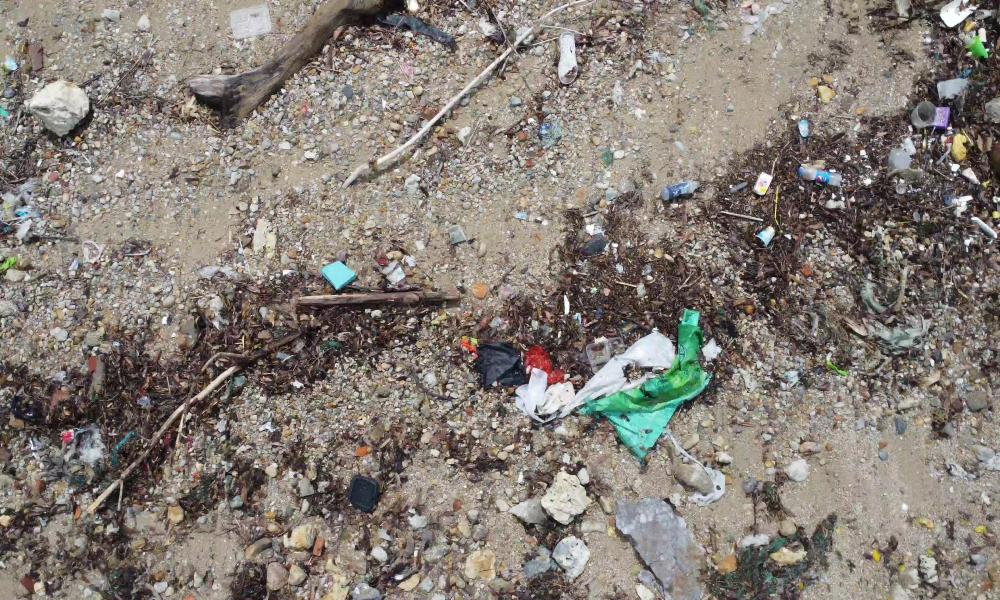carton: (752, 167, 774, 200)
plastic bag: (572, 304, 716, 463), (560, 324, 681, 423), (510, 372, 574, 422), (472, 336, 522, 394)
plastic bottle: (796, 155, 847, 195), (654, 173, 702, 205)
plastic container: (231, 3, 274, 36), (909, 91, 940, 131)
